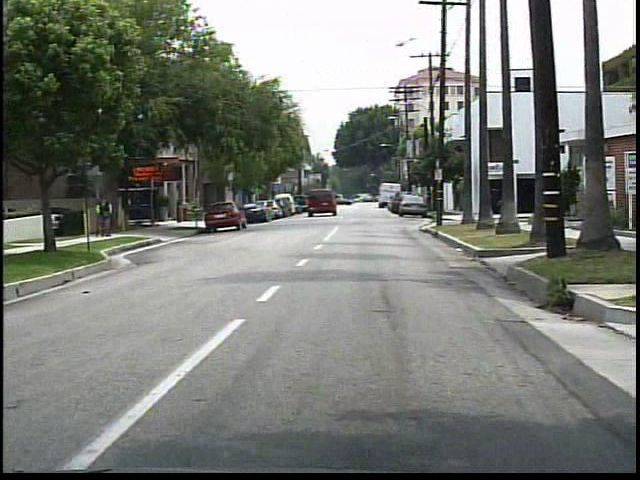person: (87, 192, 113, 240)
